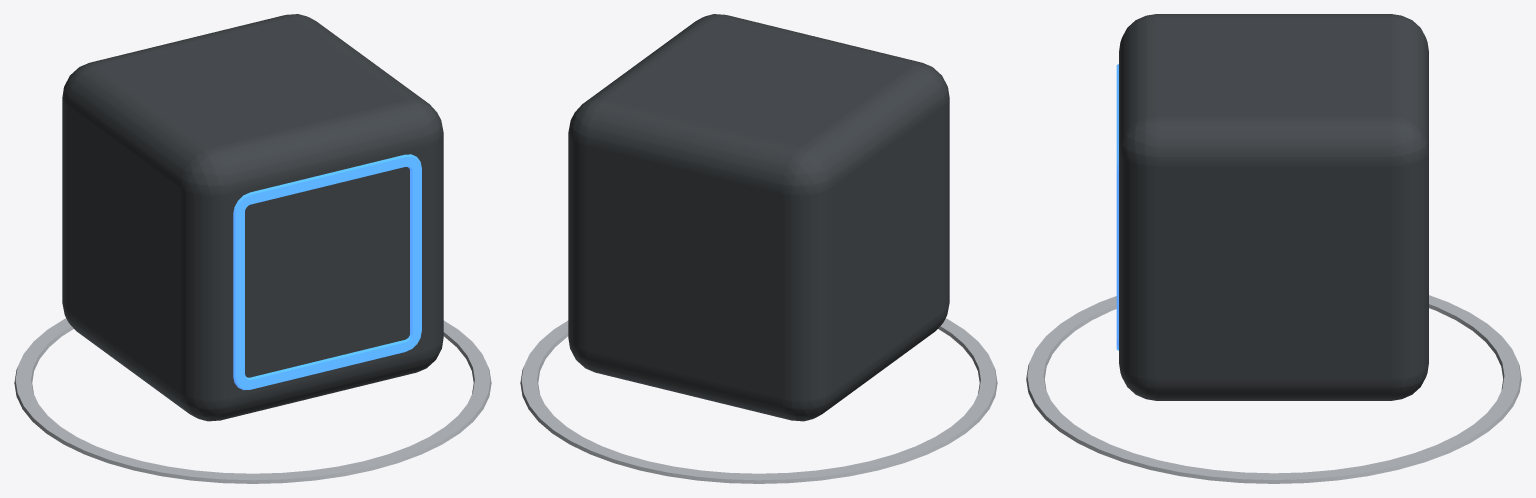
File: view-cube-1f8553.glb
The picture shows the model from 3 angles, left to right: view 1: azimuth 30°, elevation 25°; view 2: azimuth 150°, elevation 25°; view 3: azimuth 270°, elevation 25°; orthographic projection. The views are drawn at different scales.
Visible parts, largest first — view 1: cube-shell, floor-ring, highlight; view 2: cube-shell, floor-ring; view 3: cube-shell, floor-ring, highlight.
Boxes of the visible parts, bbox=[...] form: cube-shell: bbox=[62, 14, 443, 421]; floor-ring: bbox=[14, 318, 491, 483]; highlight: bbox=[233, 154, 421, 390]; cube-shell: bbox=[568, 14, 949, 421]; floor-ring: bbox=[520, 318, 997, 483]; cube-shell: bbox=[1119, 14, 1428, 400]; floor-ring: bbox=[1026, 295, 1521, 483]; highlight: bbox=[1116, 64, 1118, 350].
Bounding box in the file's own units: 1.6 × 1.11 × 1.6.
